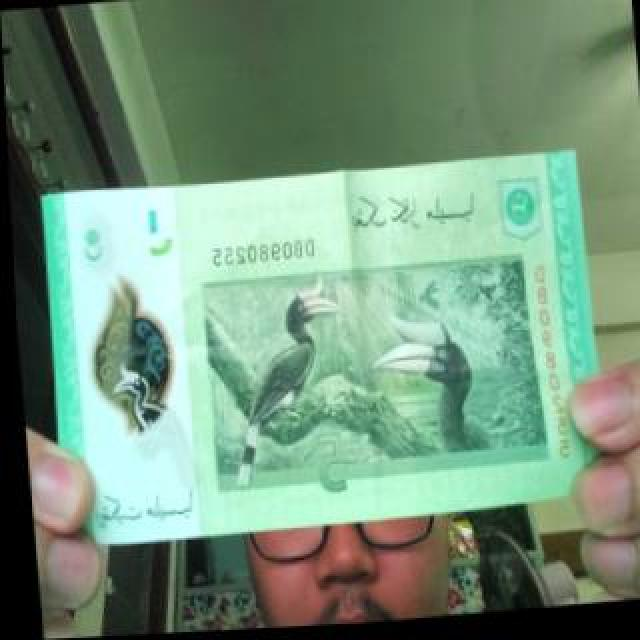5 Ringgit: (26, 160, 601, 553)
